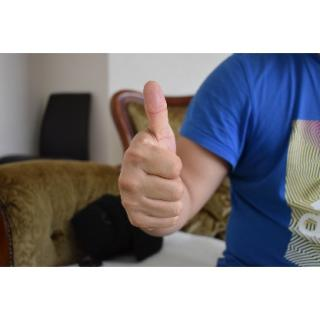ALIF: (117, 78, 193, 238)
